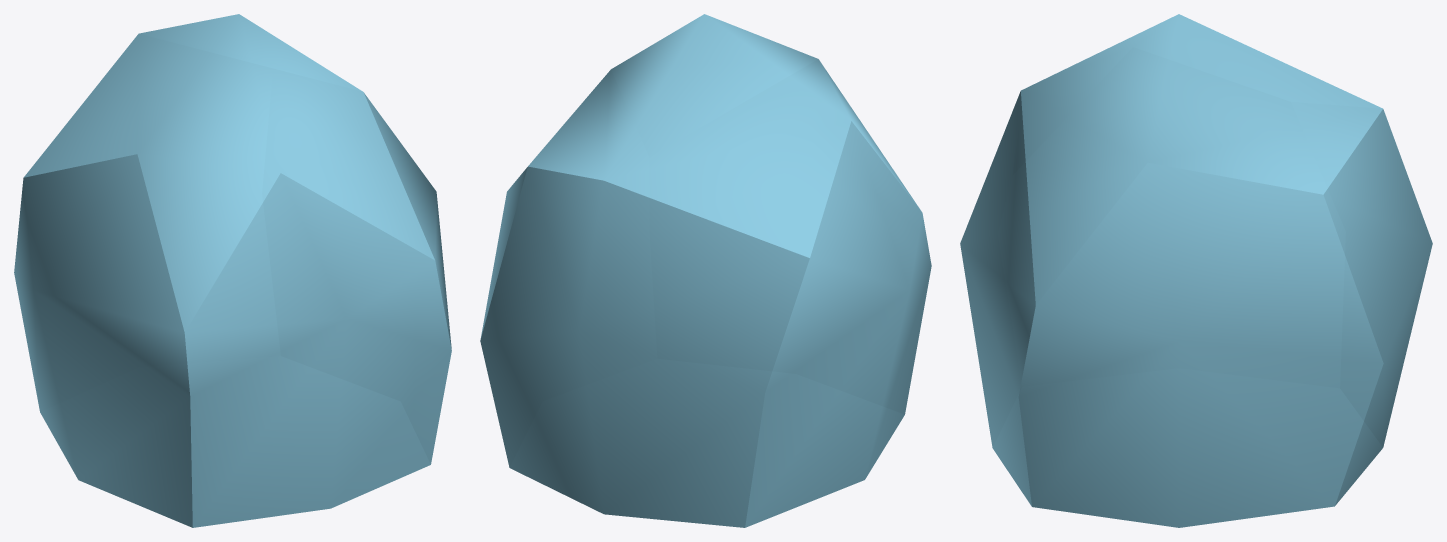
File: IceCrystal.fbx
3 renders of one model, left to right at view 1: azimuth 30°, elevation 25°; view 2: azimuth 150°, elevation 25°; view 3: azimuth 270°, elevation 25°, orthographic.
Parts seen in each view (by area): view 1: pCube1; view 2: pCube1; view 3: pCube1.
Part boxes in pixels (box(x1,y1,x2,y2)): pCube1: box(14, 14, 451, 527); pCube1: box(480, 14, 931, 527); pCube1: box(960, 14, 1432, 527).
Size of the model in its own units: 1.99 by 2.01 by 1.99.
